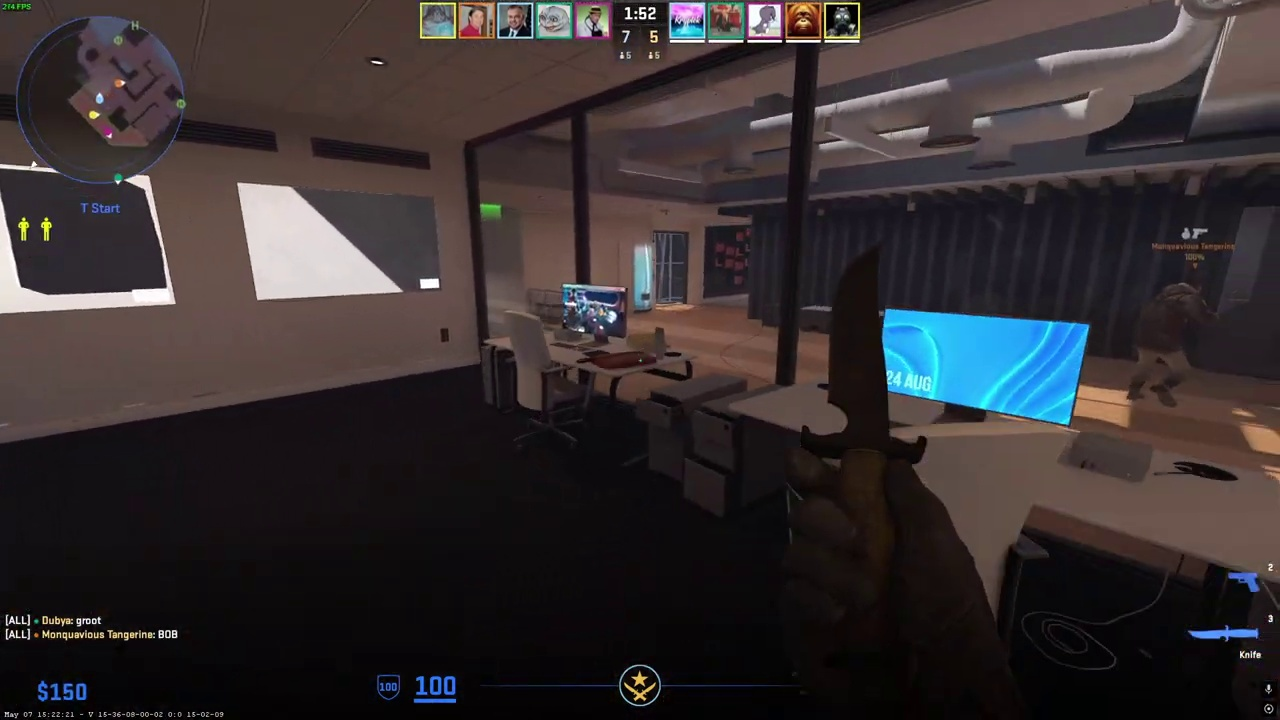Terrorist: (1132, 273, 1204, 407)
